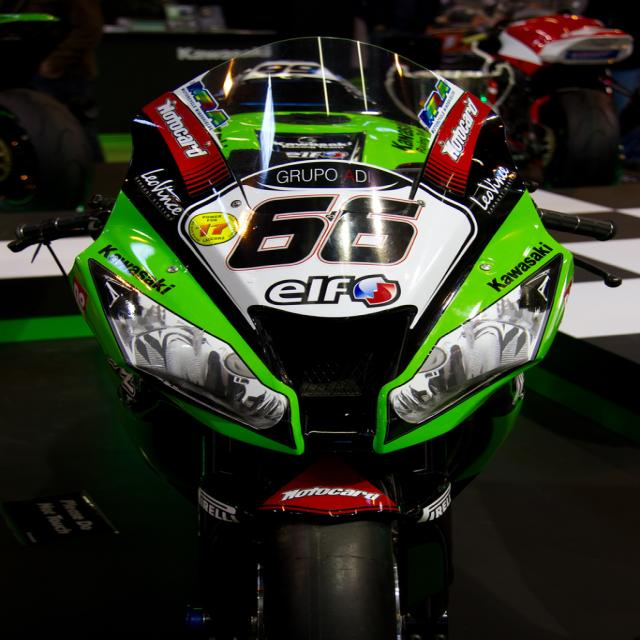Motorbikes: (12, 35, 624, 640)
